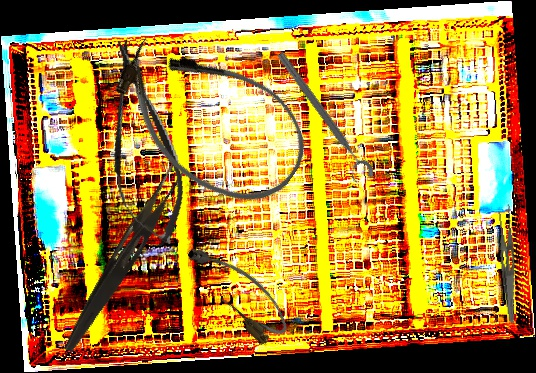Cannula: (93, 13, 327, 227), (179, 229, 297, 351)
Dressing Forceps: (60, 158, 187, 359), (492, 203, 528, 324)
Fixation Ring: (266, 49, 377, 187)
Micro Scissor: (89, 34, 194, 252)
